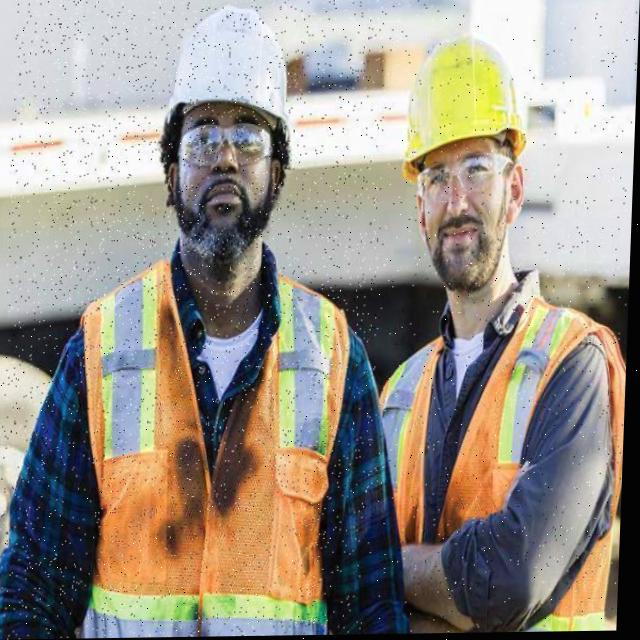Helmet: (403, 35, 531, 183), (165, 5, 294, 143)
Safety-Vest: (73, 254, 355, 639), (387, 291, 630, 635)
